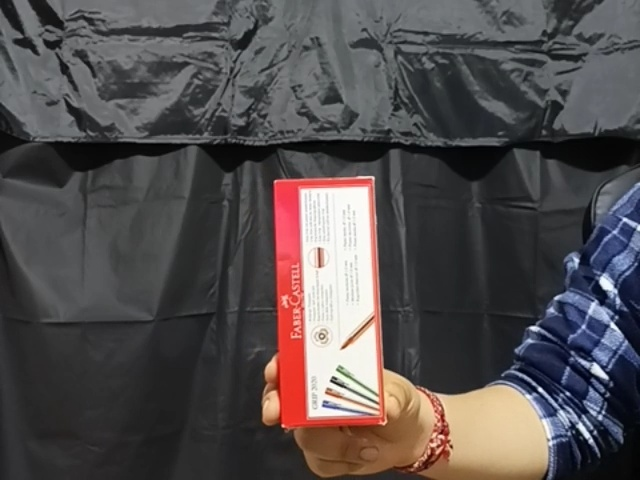xd: (270, 177, 388, 427)
